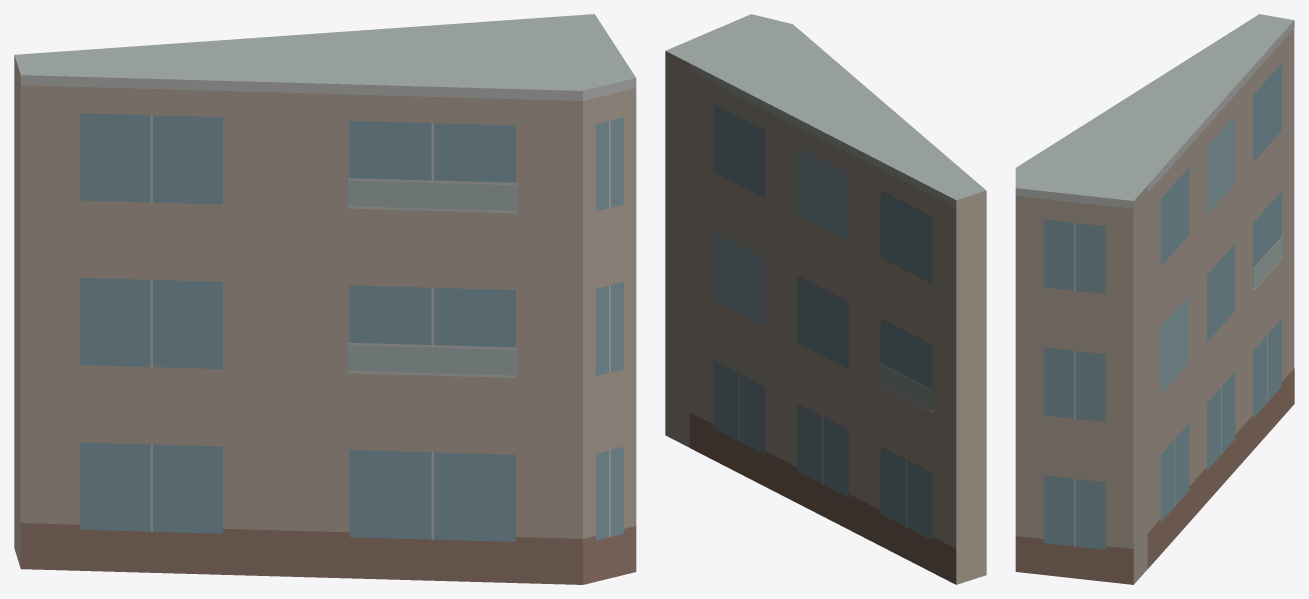
Rendered from survey-upis-32498829.glb.
3 renders of one model, left to right at view 1: azimuth 30°, elevation 25°; view 2: azimuth 150°, elevation 25°; view 3: azimuth 270°, elevation 25°, orthographic. The views are drawn at different scales.
Parts seen in each view (by area): view 1: survey-upis-32498829.tmp; view 2: survey-upis-32498829.tmp; view 3: survey-upis-32498829.tmp.
Part boxes in pixels (box(x1,y1,x2,y2)): survey-upis-32498829.tmp: box(14, 14, 636, 584); survey-upis-32498829.tmp: box(665, 14, 986, 584); survey-upis-32498829.tmp: box(1015, 14, 1294, 584).
Size of the model in its own units: 12.49 by 11.94 by 7.87.
